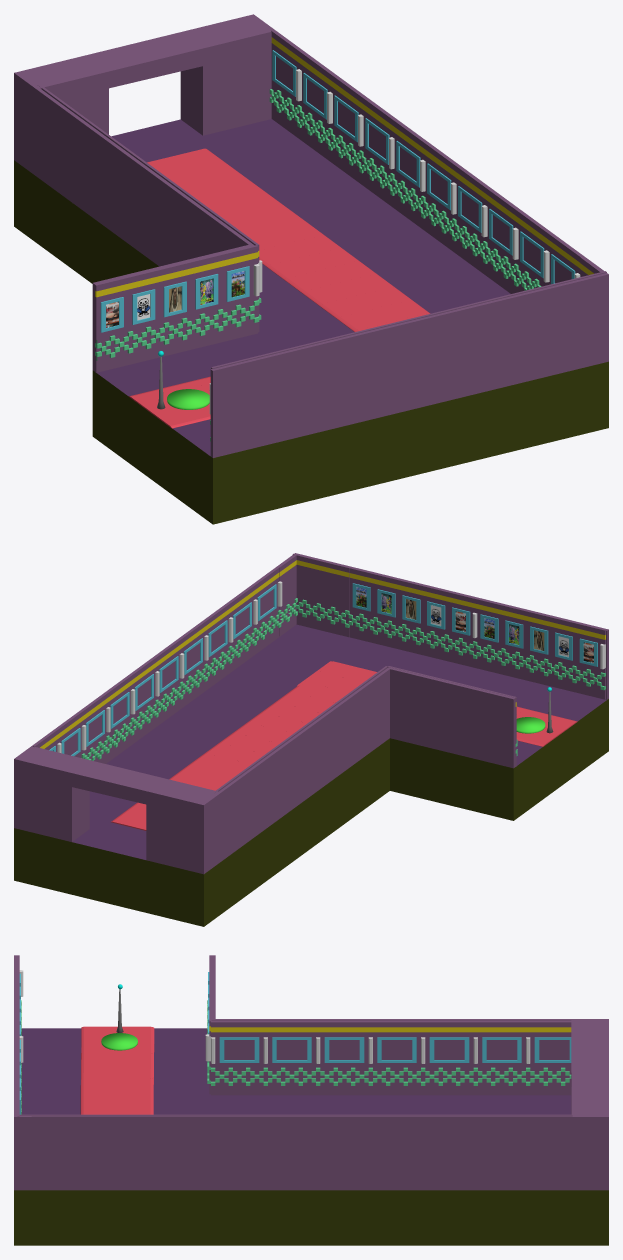
Rendered from lvl1-6.fbx.
The picture shows the model from 3 angles, top to bottom: view 1: azimuth 30°, elevation 25°; view 2: azimuth 150°, elevation 25°; view 3: azimuth 270°, elevation 25°; orthographic projection. The views are drawn at different scales.
Visible parts, largest first — view 1: Cube.037, Cube.022, Cube.020, Cylinder.014; view 2: Cube.037, Cube.022, Cube.020, Cylinder.014; view 3: Cube.037, Cube.020, Cylinder.014.
Part boxes in pixels (x1,y1,x2,y2): Cube.037: (14,14,608,524); Cube.022: (147,148,430,331); Cube.020: (129,376,210,428); Cylinder.014: (157,351,209,409); Cube.037: (14,553,608,926); Cube.022: (111,661,376,830); Cube.020: (297,661,577,746); Cylinder.014: (516,687,553,733); Cube.037: (14,955,608,1245); Cube.020: (80,1026,154,1114); Cylinder.014: (101,984,137,1050).
Size of the model in its own units: 2103 by 782 by 3261.
